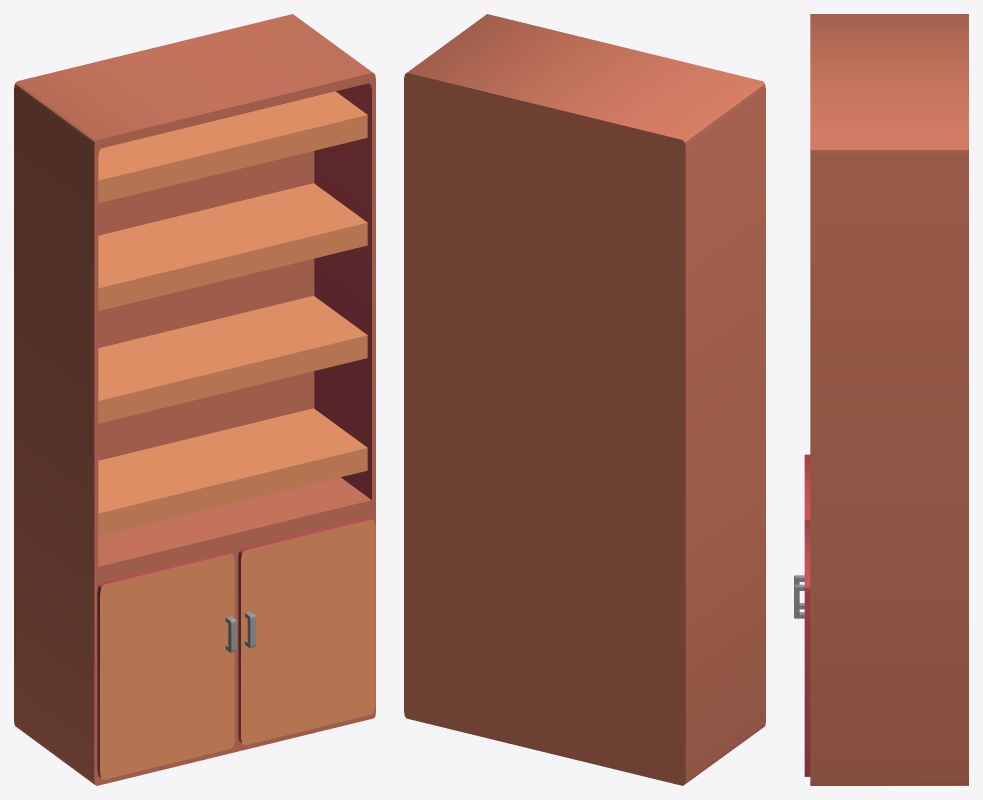
Rendered from bookshelf_1.fbx.
The picture shows the model from 3 angles, left to right: view 1: azimuth 30°, elevation 25°; view 2: azimuth 150°, elevation 25°; view 3: azimuth 270°, elevation 25°; orthographic projection.
Visible parts, largest first — view 1: bookshelf_1; view 2: bookshelf_1; view 3: bookshelf_1.
Part boxes in pixels (x1,y1,x2,y2): bookshelf_1: (14, 14, 375, 785); bookshelf_1: (404, 14, 765, 785); bookshelf_1: (794, 14, 968, 785).
Bounding box in the file's own units: 102 × 223 × 55.24.
